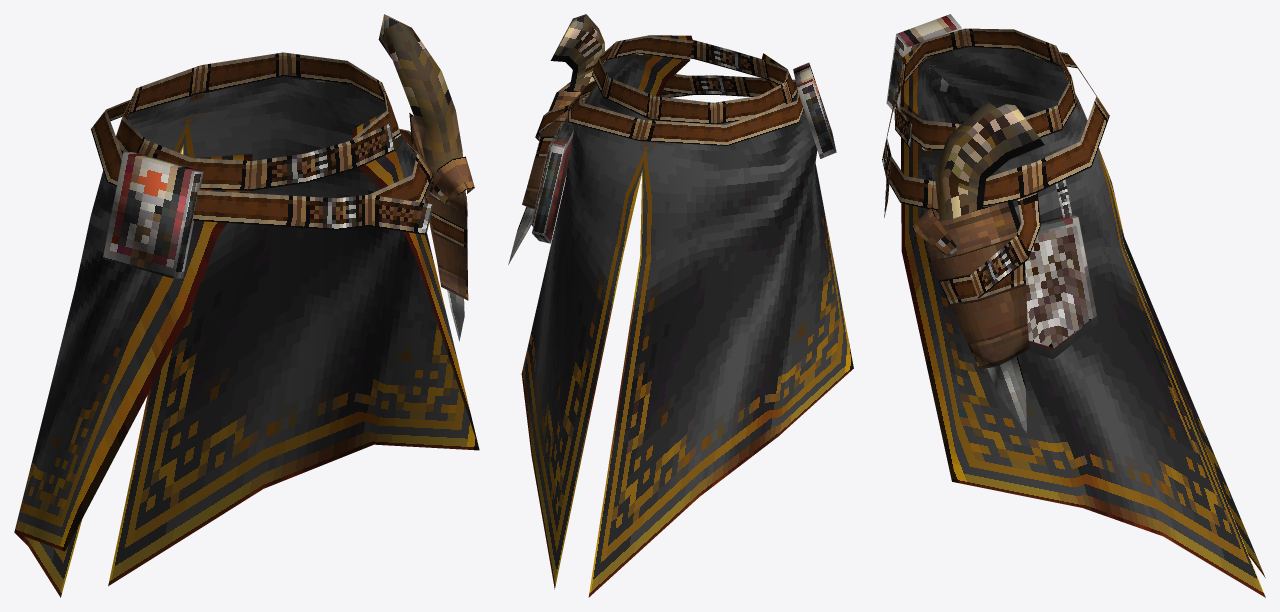
The model's file is m_waist122.obj.
3 renders of one model, left to right at view 1: azimuth 30°, elevation 25°; view 2: azimuth 150°, elevation 25°; view 3: azimuth 270°, elevation 25°, orthographic. The views are drawn at different scales.
Visible parts, largest first — view 1: mesh00; view 2: mesh00; view 3: mesh00, mesh01.
Boxes of the visible parts, <box> form: mesh00: <box>14,14,479,597</box>; mesh00: <box>508,14,853,597</box>; mesh00: <box>882,14,1265,597</box>; mesh01: <box>1025,223,1092,348</box>.
Bounding box in the file's own units: 64.14 × 91.2 × 58.09.
Materials: 2 (2 with a texture image).
